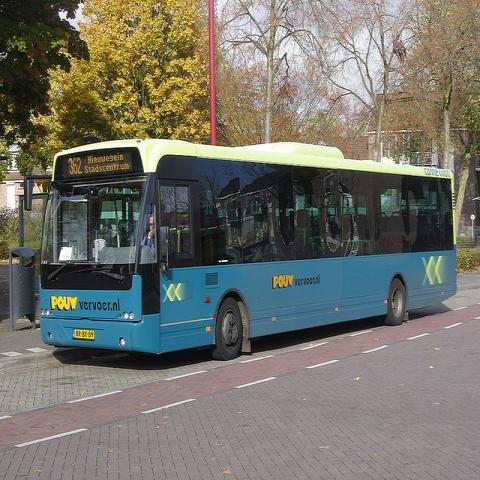bus: (39, 135, 458, 362)
